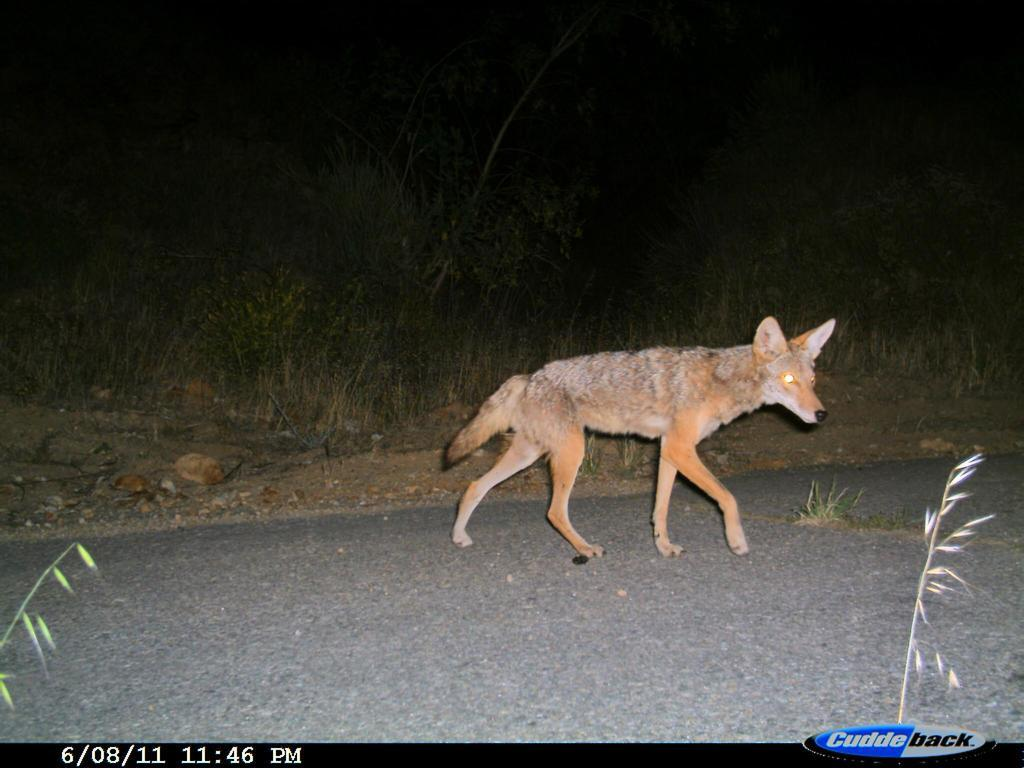coyote: (441, 306, 844, 568)
